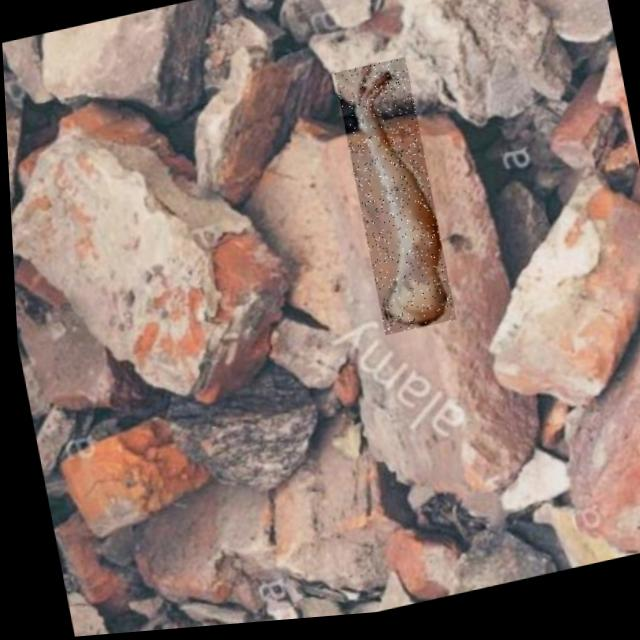Person in Rubble: (333, 60, 453, 342)
